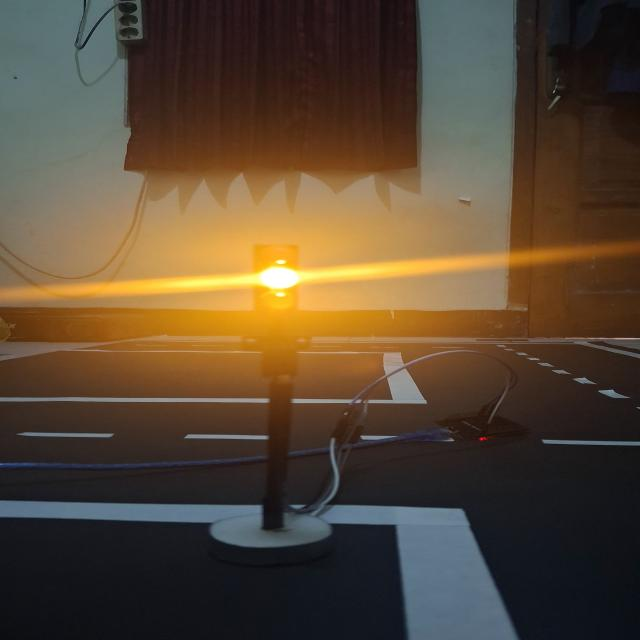Lampu Kuning: (252, 243, 302, 320)
